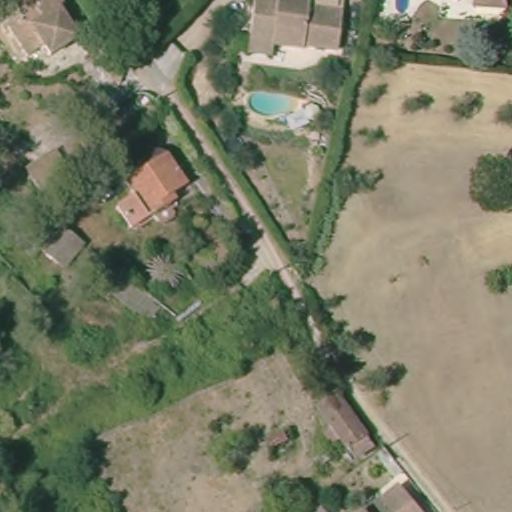pool: (244, 83, 308, 122), (391, 1, 413, 19)
